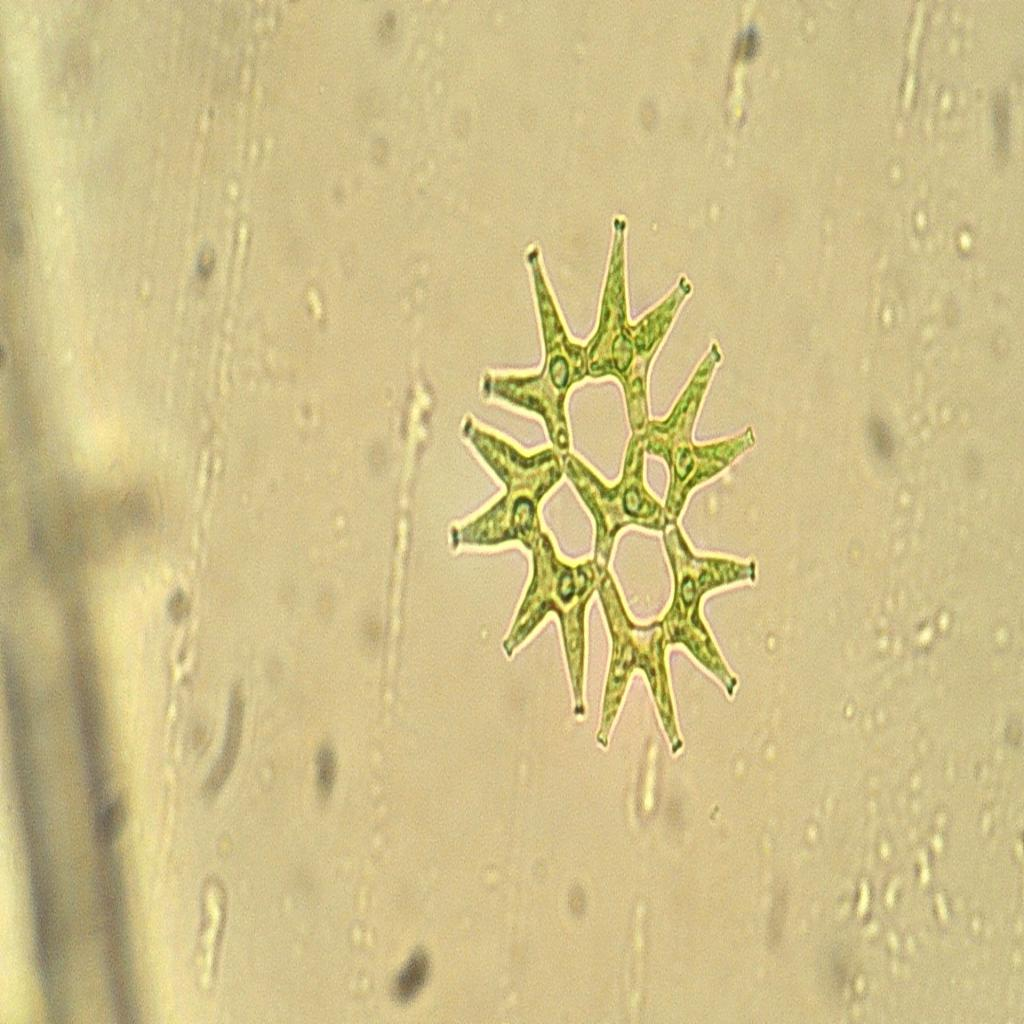Pediastrum_75T: (442, 196, 767, 771)
